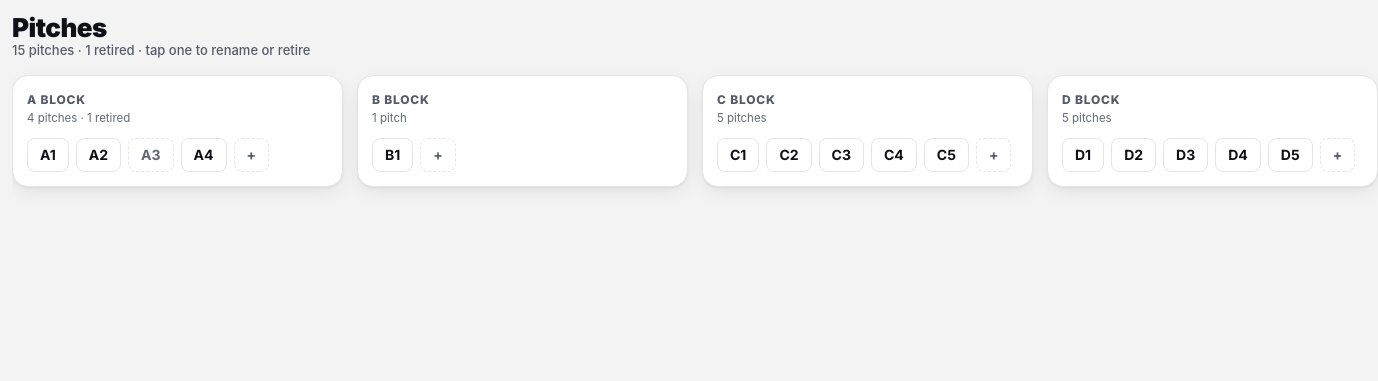
Test case: the screen › refuses to save an empty name
Click the button "A1" at (48, 155), box [27,138,69,172]
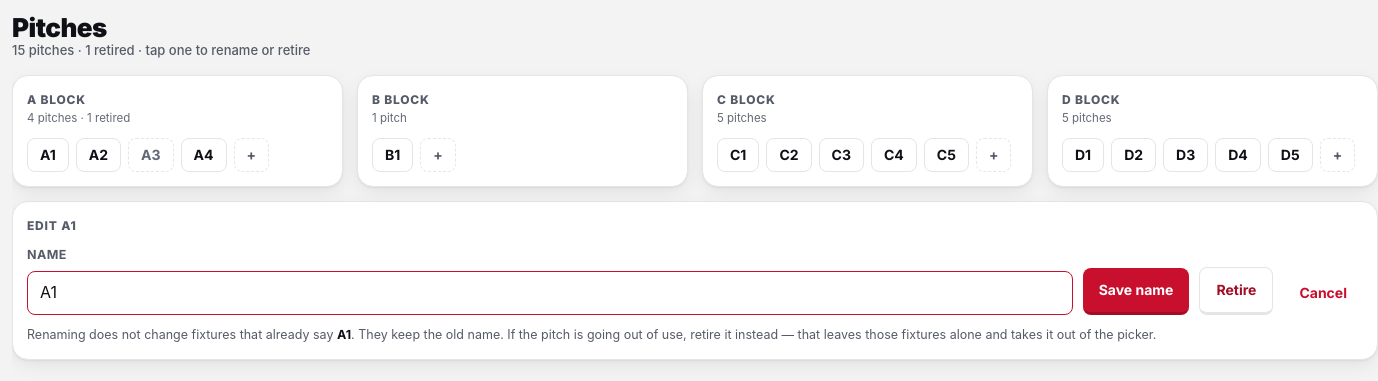
Clear the field named "Pitch name" at (550, 293), box [27,271,1073,315]
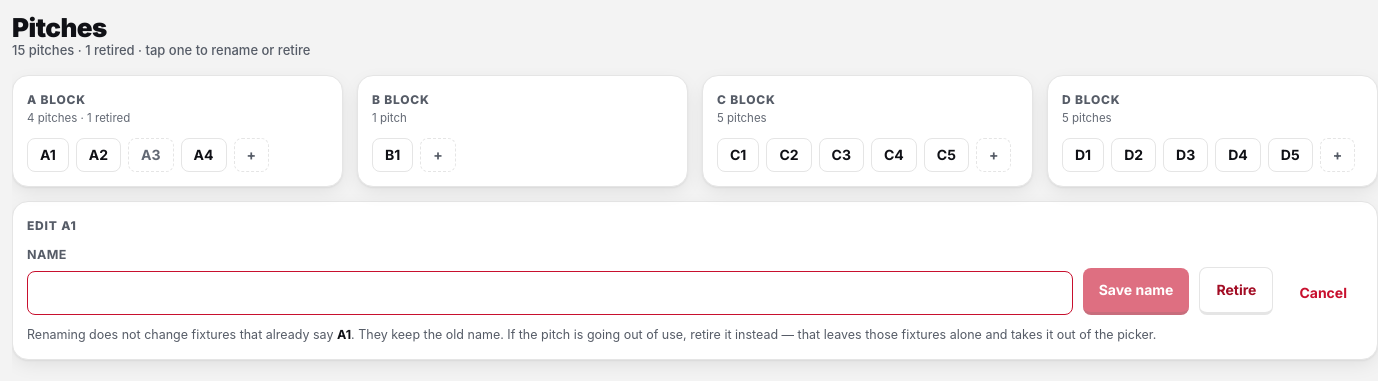
Expected: the button "Save name" is disabled, [1083,268,1189,315]
